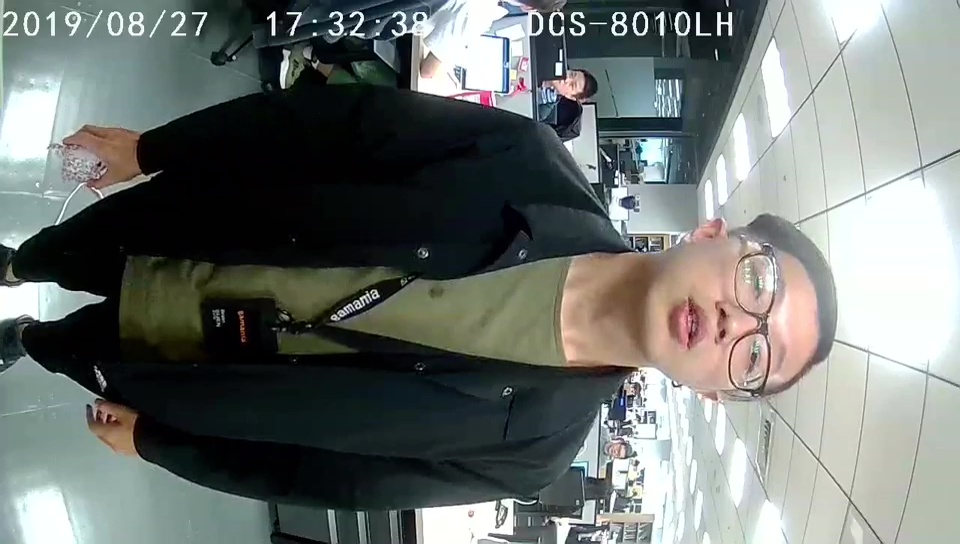pig: (63, 140, 107, 182)
